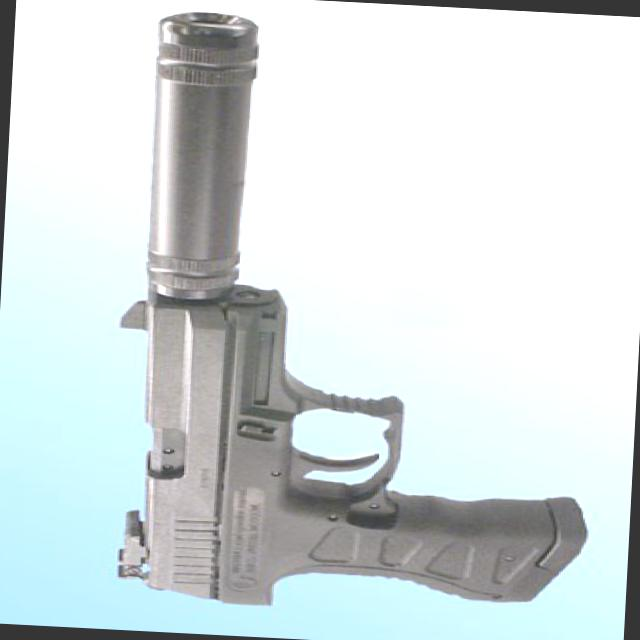handgun: (100, 9, 612, 626)
